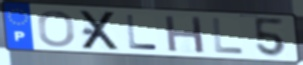5: (252, 16, 288, 60)
H: (163, 14, 207, 55)
L: (211, 17, 247, 56), (125, 14, 161, 52)
O: (37, 9, 77, 48)
X: (78, 9, 123, 51)
